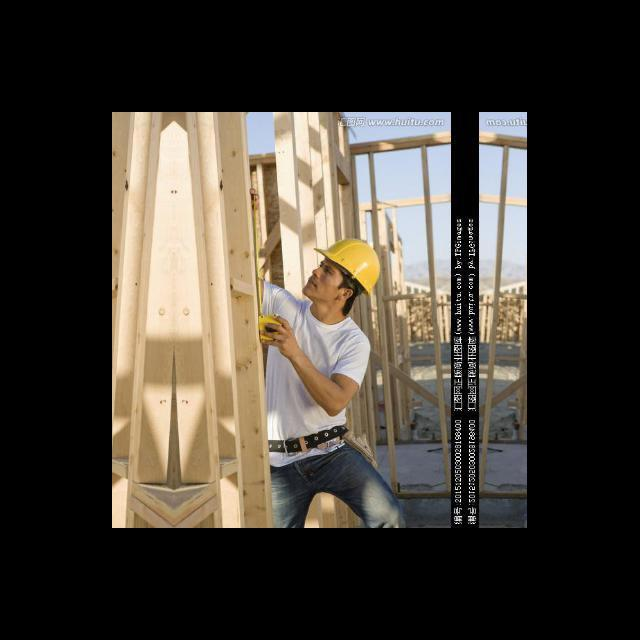Hardhat: (313, 237, 382, 297)
NO-Mask: (301, 274, 334, 300)
NO-Safety Vest: (261, 282, 356, 459)
Person: (250, 187, 404, 528)
